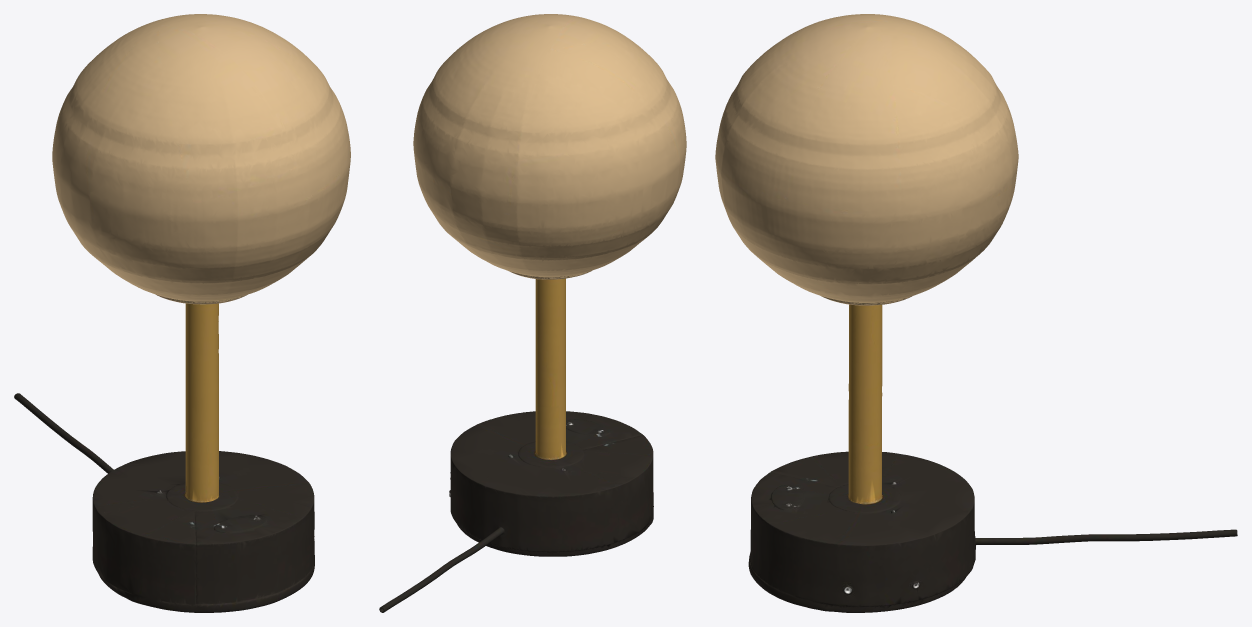
Rendered from smart-lamp.glb.
3 renders of one model, left to right at view 1: azimuth 30°, elevation 25°; view 2: azimuth 150°, elevation 25°; view 3: azimuth 270°, elevation 25°, orthographic. The views are drawn at different scales.
Parts seen in each view (by area): view 1: tripo_node_faba5a55-07c2-4337-ae0f-a1e84e265f61; view 2: tripo_node_faba5a55-07c2-4337-ae0f-a1e84e265f61; view 3: tripo_node_faba5a55-07c2-4337-ae0f-a1e84e265f61.
Boxes of the visible parts, x1,y1,x2,y2 form: tripo_node_faba5a55-07c2-4337-ae0f-a1e84e265f61: [14, 14, 350, 612]; tripo_node_faba5a55-07c2-4337-ae0f-a1e84e265f61: [379, 14, 686, 612]; tripo_node_faba5a55-07c2-4337-ae0f-a1e84e265f61: [715, 14, 1237, 612].
Size of the model in its own units: 0.5023 by 1 by 0.8736.
1 material, 1 textured.
